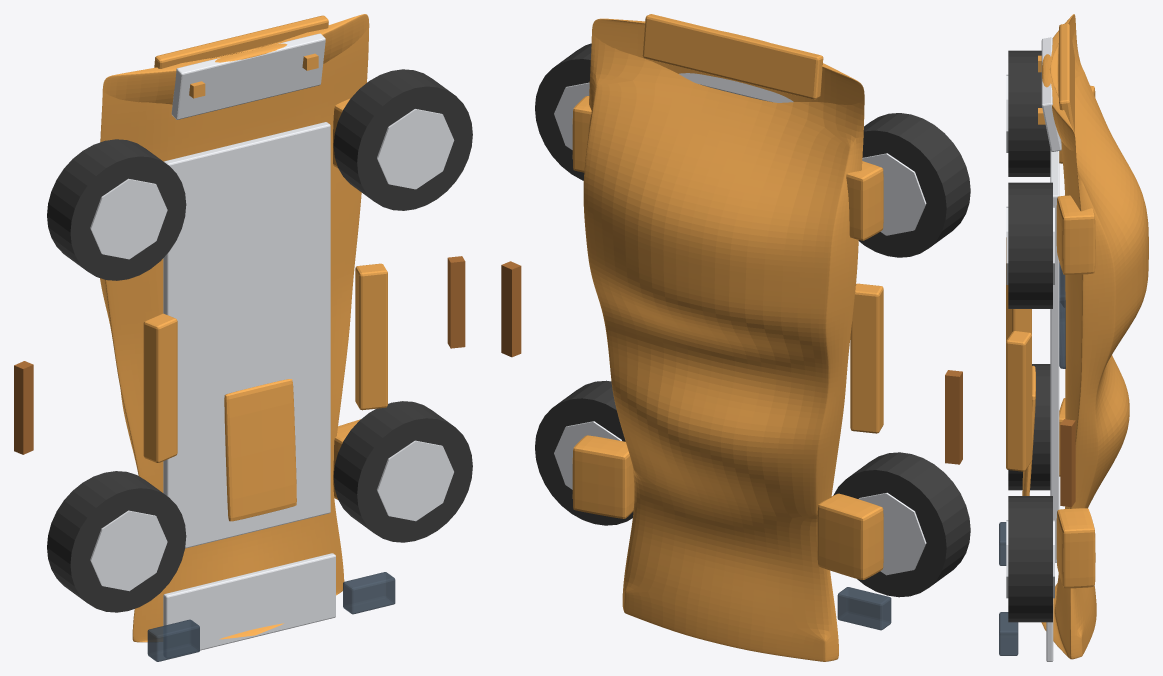
The model's file is player_car.glb.
3 renders of one model, left to right at view 1: azimuth 30°, elevation 25°; view 2: azimuth 150°, elevation 25°; view 3: azimuth 270°, elevation 25°, orthographic. The views are drawn at different scales.
Visible parts, largest first — view 1: side_skirt, body, wheel_FL_tire, wheel_FR_tire, wheel_RL_tire, wheel_RR_tire, splitter, hood, diffuser, scoop_L, scoop_R, wheel_FL_rim (+8 smaller); view 2: body, wheel_RL_tire, wheel_FL_tire, spoiler.001, fender_L_R, wheel_RR_tire, scoop_L, fender_R_R, wheel_FR_tire, wheel_RL_rim, wheel_FL_rim, fender_L_F (+7 smaller); view 3: body, wheel_FR_tire, wheel_RR_tire, wheel_FL_tire, scoop_R, fender_R_R, side_skirt, fender_R_F, wheel_RL_tire, spoiler.001, scoop_R_inset, diffuser (+9 smaller).
Part boxes in pixels (x1=…): side_skirt: x1=163, y1=122, x2=330, y2=548; body: x1=100, y1=14, x2=369, y2=642; wheel_FL_tire: x1=47, y1=139, x2=186, y2=280; wheel_FR_tire: x1=333, y1=69, x2=472, y2=210; wheel_RL_tire: x1=47, y1=471, x2=186, y2=612; wheel_RR_tire: x1=333, y1=401, x2=472, y2=542; splitter: x1=163, y1=553, x2=335, y2=650; hood: x1=224, y1=379, x2=296, y2=521; diffuser: x1=171, y1=33, x2=325, y2=119; scoop_L: x1=143, y1=313, x2=177, y2=462; scoop_R: x1=355, y1=263, x2=387, y2=410; wheel_FL_rim: x1=90, y1=178, x2=167, y2=259; body: x1=583, y1=18, x2=864, y2=661; wheel_RL_tire: x1=833, y1=452, x2=970, y2=597; wheel_FL_tire: x1=858, y1=113, x2=970, y2=257; spoiler.001: x1=642, y1=14, x2=823, y2=99; fender_L_R: x1=817, y1=493, x2=883, y2=579; wheel_RR_tire: x1=535, y1=380, x2=633, y2=525; scoop_L: x1=850, y1=283, x2=883, y2=433; fender_R_R: x1=572, y1=435, x2=634, y2=518; wheel_FR_tire: x1=535, y1=43, x2=591, y2=180; wheel_RL_rim: x1=858, y1=492, x2=926, y2=575; wheel_FL_rim: x1=862, y1=153, x2=926, y2=235; fender_L_F: x1=846, y1=161, x2=883, y2=240; body: x1=1041, y1=14, x2=1148, y2=659; wheel_FR_tire: x1=1008, y1=182, x2=1052, y2=308; wheel_RR_tire: x1=1008, y1=496, x2=1052, y2=622; wheel_FL_tire: x1=1008, y1=50, x2=1050, y2=176; scoop_R: x1=1006, y1=331, x2=1031, y2=471; fender_R_R: x1=1056, y1=508, x2=1095, y2=588; side_skirt: x1=1050, y1=149, x2=1059, y2=562; fender_R_F: x1=1056, y1=195, x2=1095, y2=274; wheel_RL_tire: x1=1008, y1=364, x2=1050, y2=490; spoiler.001: x1=1059, y1=23, x2=1074, y2=134; scoop_R_inset: x1=1060, y1=419, x2=1075, y2=507; diffuser: x1=1041, y1=37, x2=1061, y2=151.
Size of the model in its own units: 0.9675 by 1.23 by 0.2966.
